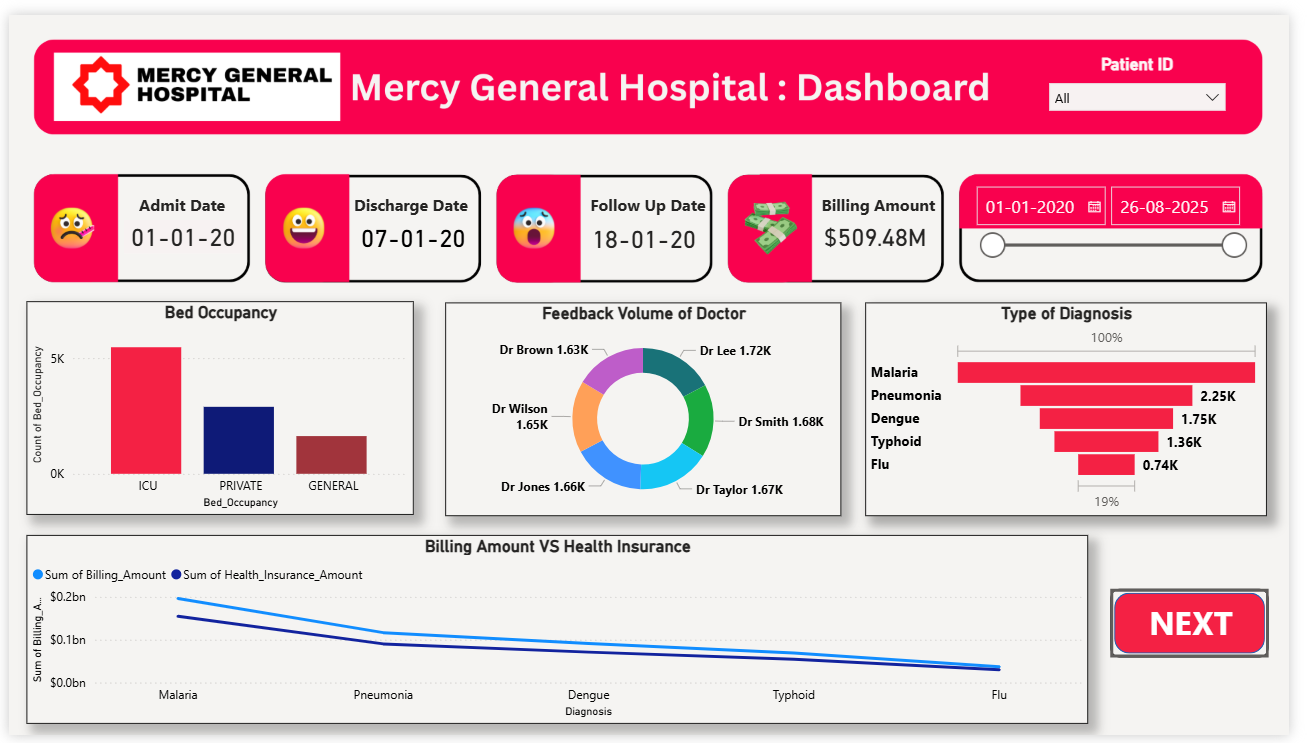

What the dashboard file says about the page in this screenshot:
{"tool":"powerbi","page":{"name":"Overview","canvas":[1280,720],"ordinal":0},"visuals":[{"type":"slicer","title":"Patient ID","fields":{"Values":["Sheet1.Patient_ID"]},"box":[1030,38.8,196.2,71.2],"z":0},{"type":"card","fields":{"Values":["Sheet1.Admit_Date"]},"box":[115,205,118.8,33.8],"z":1000},{"type":"textbox","box":[125,173.8,118.8,35],"z":2000},{"type":"textbox","box":[340,173.8,127.5,38.8],"z":3000},{"type":"card","fields":{"Values":["Sheet1.Discharge_Date"]},"box":[342.5,206.2,123.8,32.5],"z":4000},{"type":"textbox","box":[576.2,173.8,126.2,35],"z":5000},{"type":"card","fields":{"Values":["Sheet1.Followup_Date"]},"box":[576.2,208.8,117.5,30],"z":6000},{"type":"textbox","box":[807.5,173.8,126.2,35],"z":7000},{"type":"card","fields":{"Values":["Sheet1.Billing_Amount"]},"box":[807.5,205,117.5,33.8],"z":8000},{"type":"slicer","fields":{"Values":["Sheet1.Admit_Date"]},"box":[955,161.2,291.2,90],"z":9000},{"type":"columnChart","title":" Bed Occupancy","fields":{"Category":["Sheet1.Bed_Occupancy"],"Y":["Sheet1.Bed_Occupancy"]},"box":[17.5,286.2,387.5,213.8],"z":10000},{"type":"donutChart","title":"Feedback Volume of Doctor","fields":{"Category":["Sheet1.Doctor"],"Y":["Sheet1.Doctor"]},"box":[436.2,287.5,396.2,213.8],"z":11000},{"type":"funnel","title":"Diagnosis Type ","fields":{"Category":["Sheet1.Diagnosis"],"Y":["Sheet1.Diagnosis"]},"box":[856.2,287.5,401.2,213.8],"z":12000},{"type":"lineChart","title":"Billing Amount VS Health Insurance","fields":{"Category":["Sheet1.Diagnosis"],"Y":["Sheet1.Billing_Amount","Sheet1.Health_Insurance_Amount"]},"box":[17.5,520,1061.2,188.8],"z":13000},{"type":"shape","box":[1101.2,573.8,158.8,68.8],"z":14000},{"type":"textbox","box":[1117.5,581.2,128.8,55],"z":15000},{"type":"actionButton","box":[1101.2,573.8,158.8,68.8],"z":15001}]}

Visuals, with their boxes in screenshot pixels (x1, y1, x2, y2), scaled from the page's 1280x720 canvas onto the 1313x743 screenshot:
"Patient ID" slicer: select_region(1057, 40, 1258, 114)
card - Sheet1.Admit_Date: select_region(118, 212, 240, 246)
textbox: select_region(128, 179, 250, 215)
textbox: select_region(349, 179, 480, 219)
card - Sheet1.Discharge_Date: select_region(351, 213, 478, 246)
textbox: select_region(591, 179, 721, 215)
card - Sheet1.Followup_Date: select_region(591, 215, 712, 246)
textbox: select_region(828, 179, 958, 215)
card - Sheet1.Billing_Amount: select_region(828, 212, 949, 246)
slicer - Sheet1.Admit_Date: select_region(980, 166, 1278, 259)
" Bed Occupancy" columnChart: select_region(18, 295, 415, 516)
"Feedback Volume of Doctor" donutChart: select_region(447, 297, 854, 517)
"Diagnosis Type " funnel: select_region(878, 297, 1290, 517)
"Billing Amount VS Health Insurance" lineChart: select_region(18, 537, 1107, 731)
shape: select_region(1130, 592, 1292, 663)
textbox: select_region(1146, 600, 1278, 657)
actionButton: select_region(1130, 592, 1292, 663)
